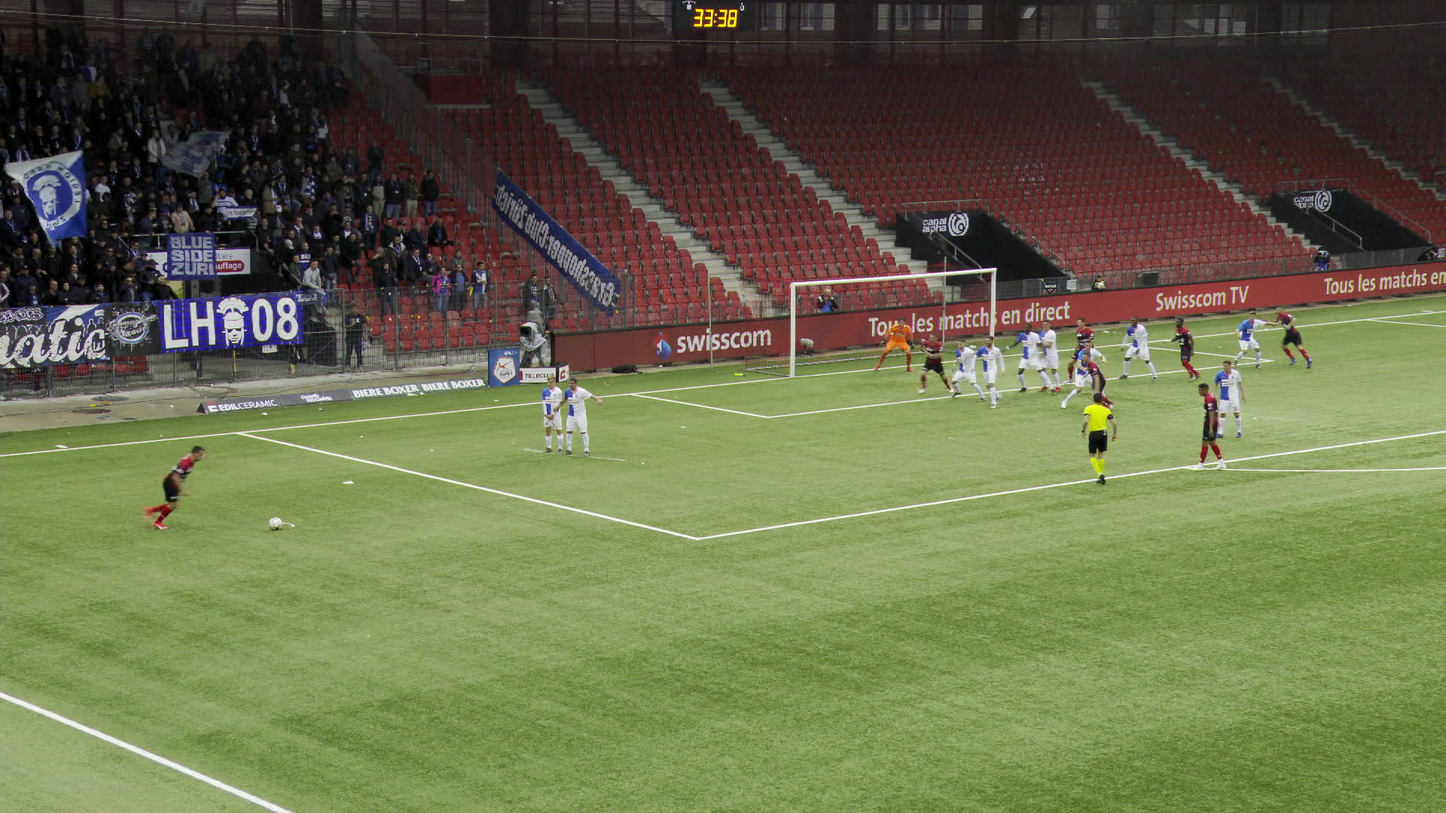ball: (270, 516, 282, 528)
player: (142, 443, 207, 530), (553, 377, 603, 457), (1005, 323, 1057, 396), (1060, 340, 1108, 409), (1189, 382, 1225, 470), (1209, 359, 1246, 440), (1233, 310, 1280, 370), (1073, 349, 1115, 414), (1117, 315, 1159, 380), (1273, 306, 1313, 370), (971, 335, 1005, 409), (1062, 317, 1098, 385), (950, 339, 987, 403), (873, 317, 915, 373), (917, 330, 953, 394), (1168, 315, 1201, 382), (526, 377, 551, 456), (1037, 319, 1061, 393)
referee: (1080, 392, 1118, 485)
